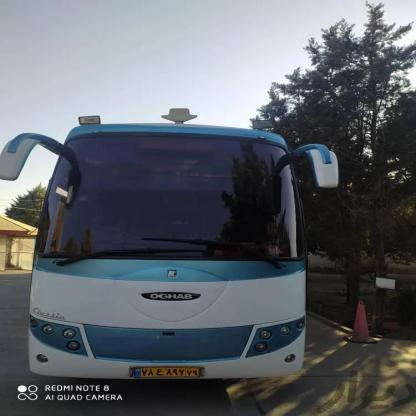Bus: (32, 111, 322, 383)
